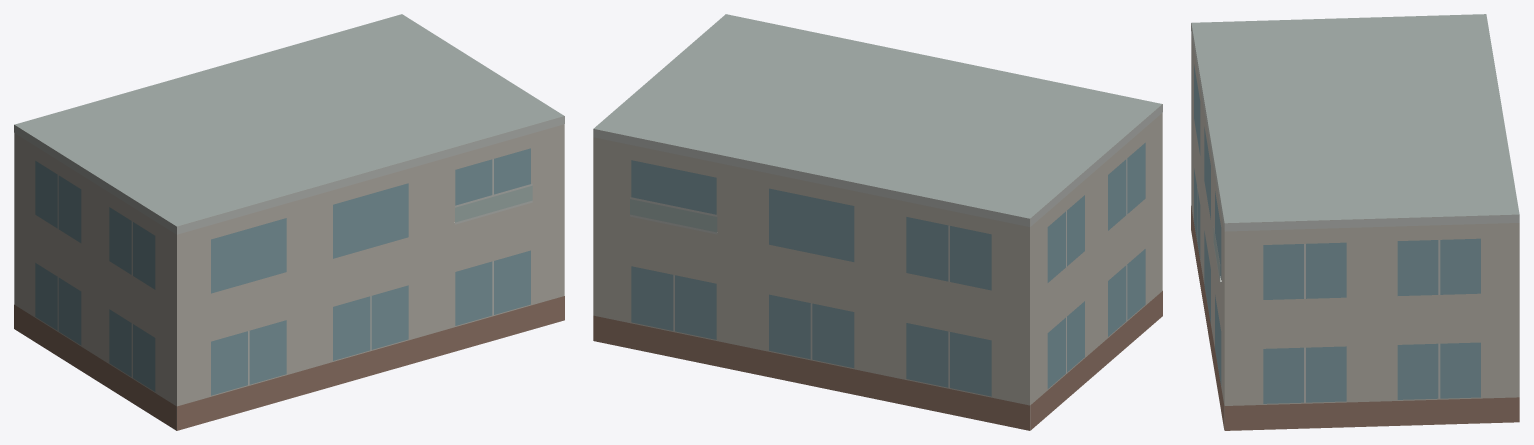
Rendered from survey-upis-32717126.glb.
The picture shows the model from 3 angles, left to right: view 1: azimuth 30°, elevation 25°; view 2: azimuth 150°, elevation 25°; view 3: azimuth 270°, elevation 25°; orthographic projection. The views are drawn at different scales.
Visible parts, largest first — view 1: survey-upis-32717126.tmp; view 2: survey-upis-32717126.tmp; view 3: survey-upis-32717126.tmp.
Part boxes in pixels (<box>): survey-upis-32717126.tmp: <box>14,14,564,430</box>; survey-upis-32717126.tmp: <box>593,14,1162,430</box>; survey-upis-32717126.tmp: <box>1191,14,1519,430</box>.
Bounding box in the file's own units: 13.19 × 6.1 × 8.75.
